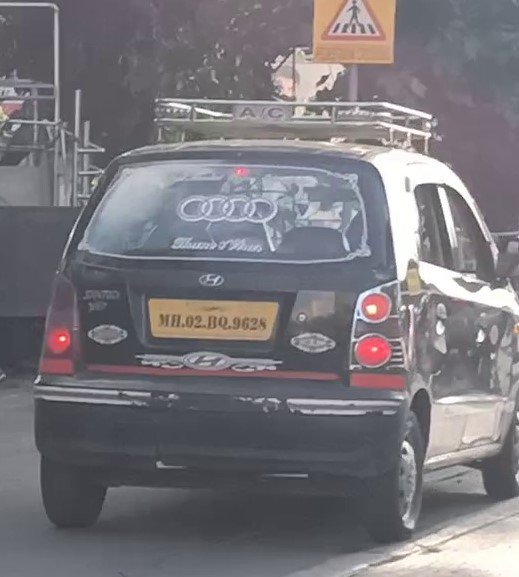MH02BQ9628: (147, 298, 279, 340)
